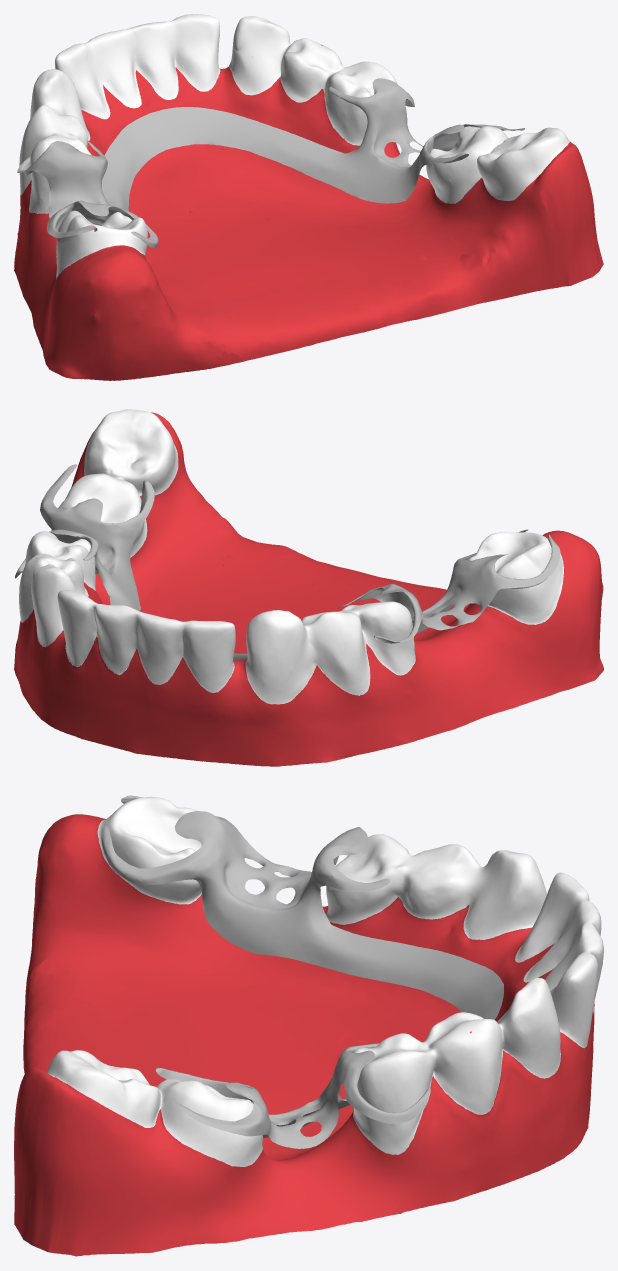
File: 1756915889792-08_teeth+cast-draco.glb
3 renders of one model, top to bottom at view 1: azimuth 30°, elevation 25°; view 2: azimuth 150°, elevation 25°; view 3: azimuth 270°, elevation 25°, orthographic. The views are drawn at different scales.
Parts seen in each view (by area): view 1: 08_teeth, 08_cast; view 2: 08_teeth, 08_cast; view 3: 08_teeth, 08_cast.
Boxes of the visible parts, x1,y1,x2,y2 form: 08_teeth: [14, 14, 603, 380]; 08_cast: [17, 78, 524, 247]; 08_teeth: [14, 409, 603, 766]; 08_cast: [15, 464, 560, 660]; 08_teeth: [14, 796, 603, 1256]; 08_cast: [101, 795, 503, 1148].
Bounding box in the file's own units: 380 × 99.3 × 294.
